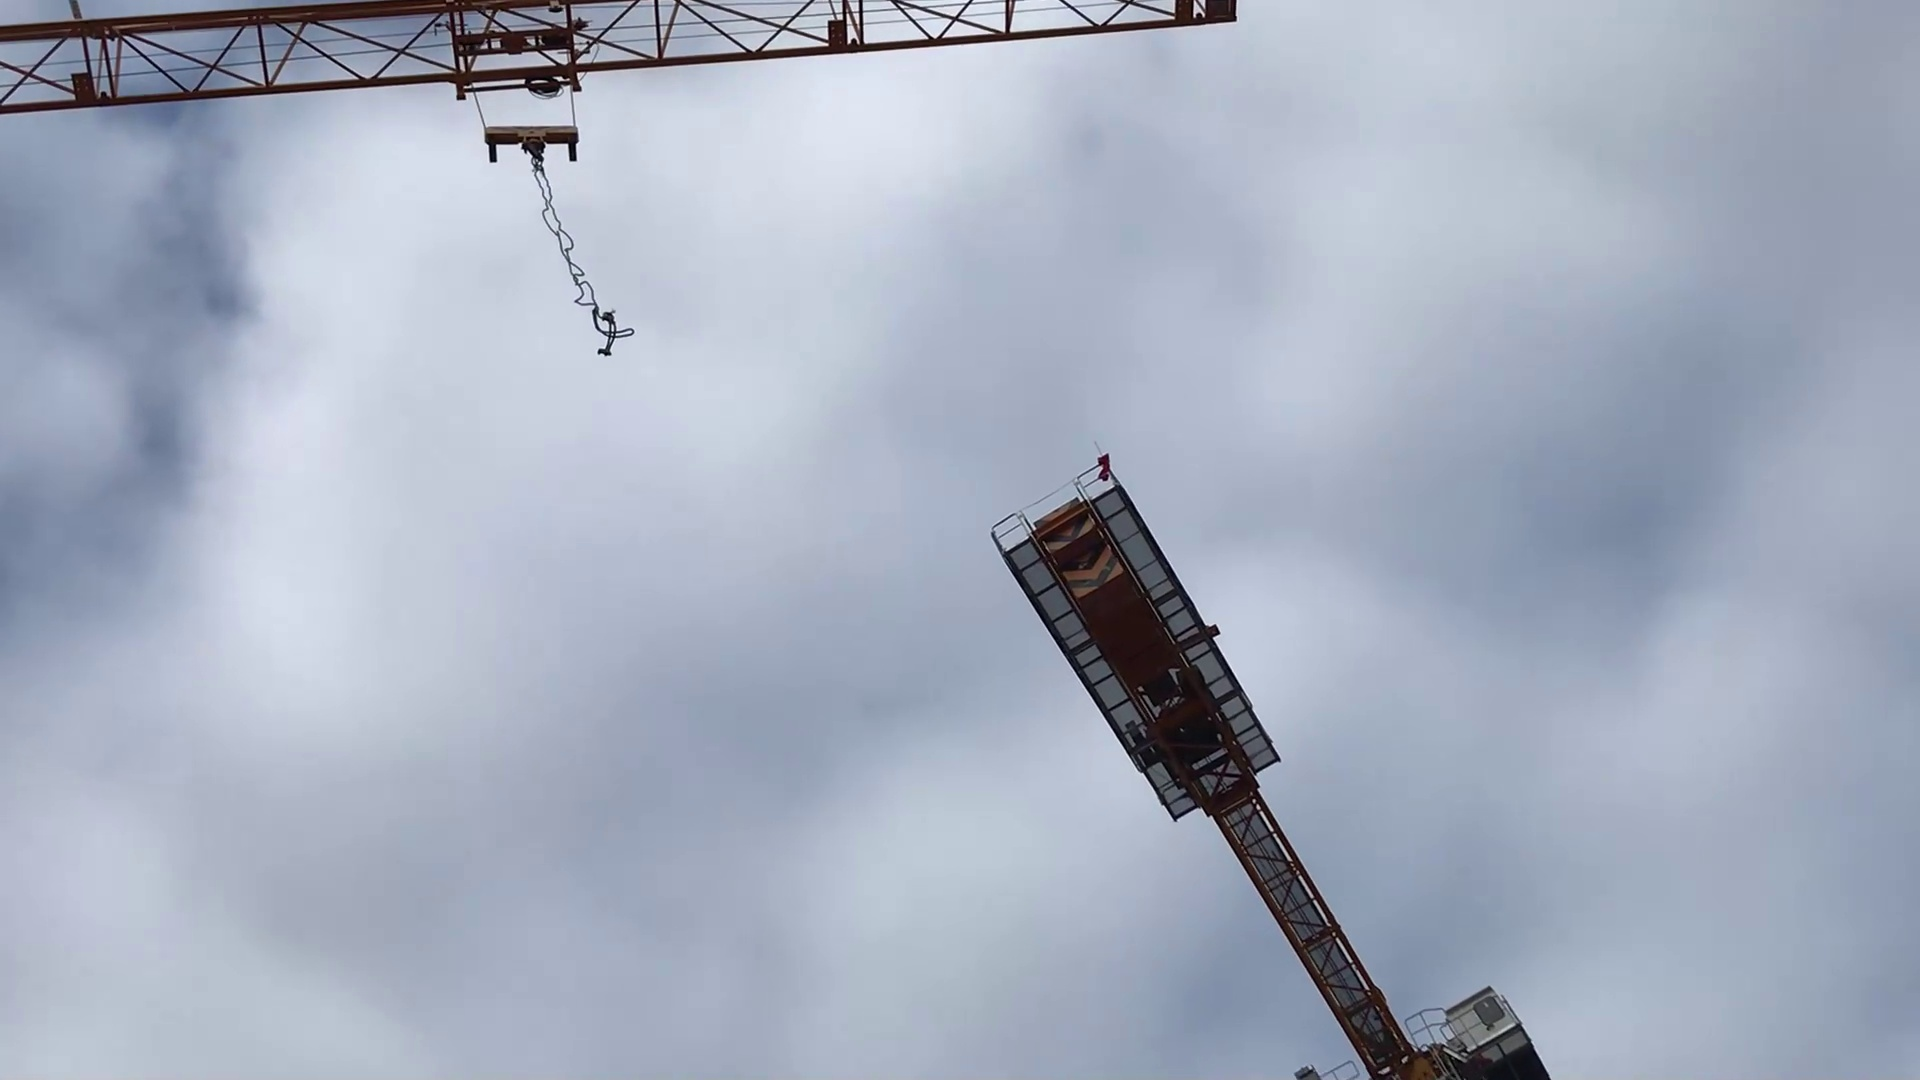hook: (473, 119, 589, 175)
